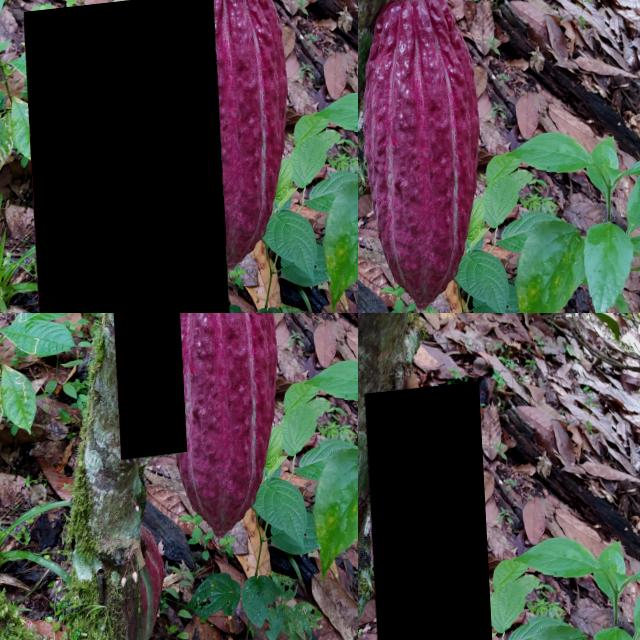Monilia: (108, 313, 182, 464)
Sana: (20, 0, 226, 313), (65, 438, 292, 640), (362, 389, 490, 640), (424, 0, 537, 104)
